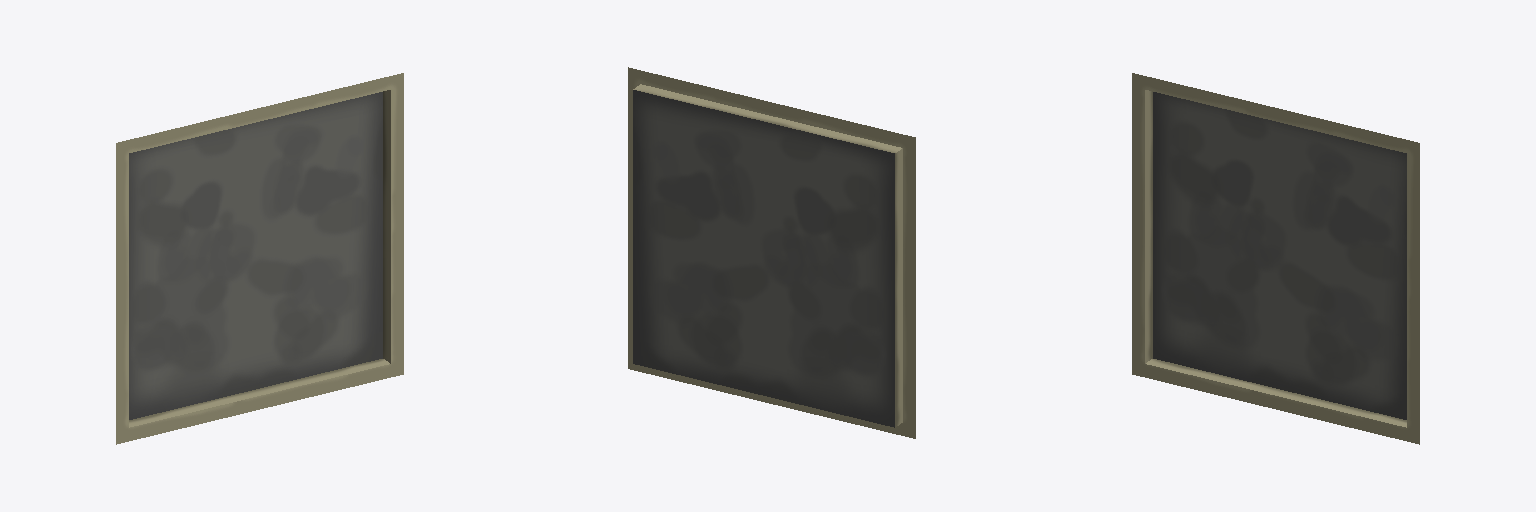
3 views of the same model, side by side, from view 1: azimuth 30°, elevation 25°; view 2: azimuth 150°, elevation 25°; view 3: azimuth 330°, elevation 25° (orthographic).
Parts seen in each view (by area): view 1: Low; view 2: Low; view 3: Low.
Part boxes in pixels (left/top/right/bottom): Low: left=116, top=73, right=403, bottom=444; Low: left=628, top=67, right=915, bottom=438; Low: left=1132, top=73, right=1419, bottom=444.
Size of the model in its own units: 22 by 22 by 1.
1 materials, 1 textured.